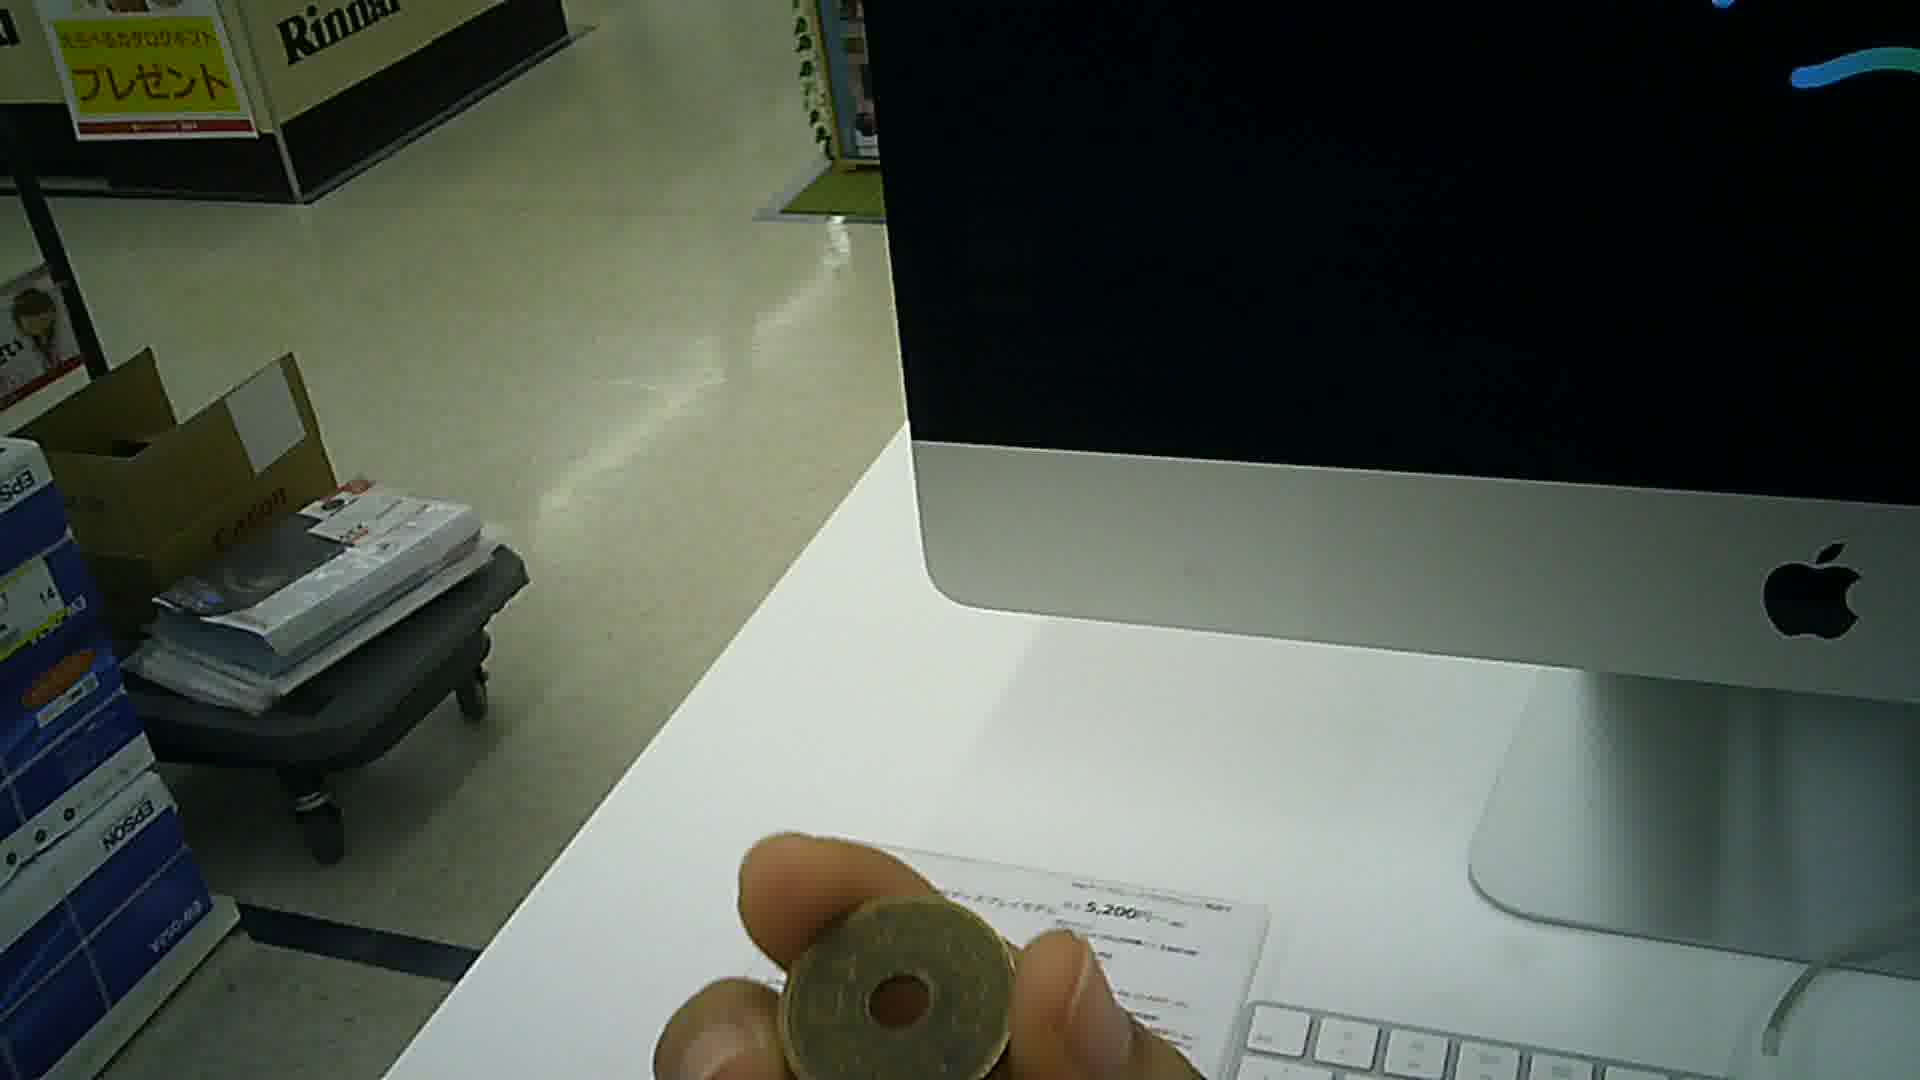5 Yen: (760, 897, 1040, 1079)
